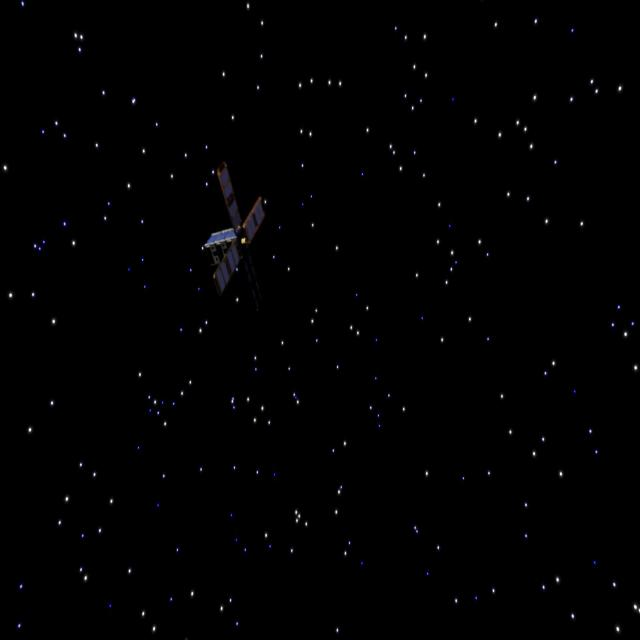medium_debris: (204, 158, 274, 328)
